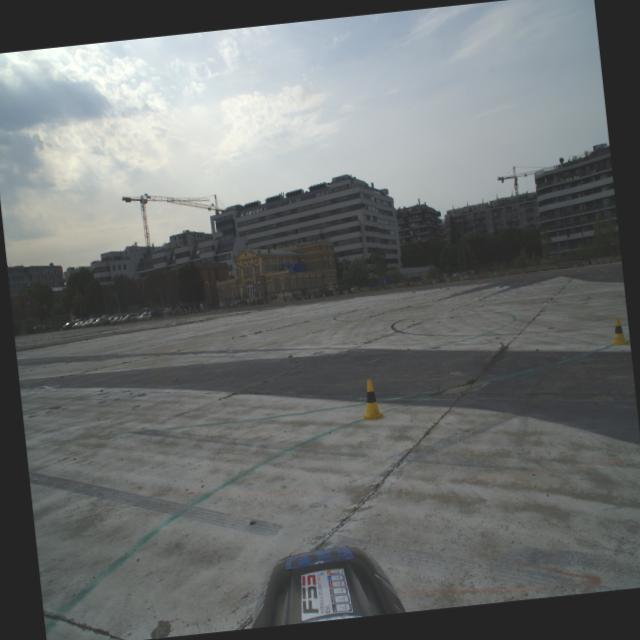orange_cone: (600, 267, 604, 273), (564, 270, 568, 276), (446, 283, 449, 289), (412, 287, 415, 293), (438, 284, 441, 289), (576, 268, 578, 274), (526, 274, 529, 278), (520, 274, 522, 280), (480, 279, 482, 284), (478, 280, 480, 284)
yellow_cone: (356, 377, 386, 421), (607, 316, 630, 346)
